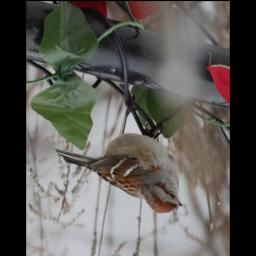Sparrow: (53, 96, 183, 215)
